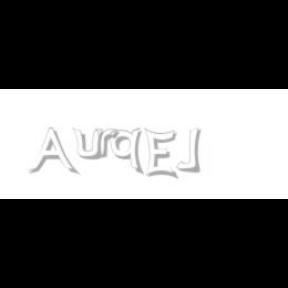A: (28, 128, 76, 176)
E: (144, 128, 178, 180)
J: (176, 128, 200, 172)
q: (109, 128, 145, 176)
r: (96, 128, 122, 158)
u: (72, 128, 108, 160)
